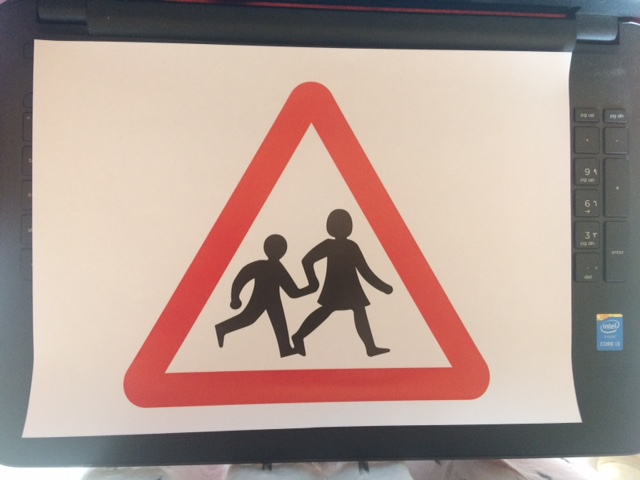sign: (113, 80, 495, 410)
